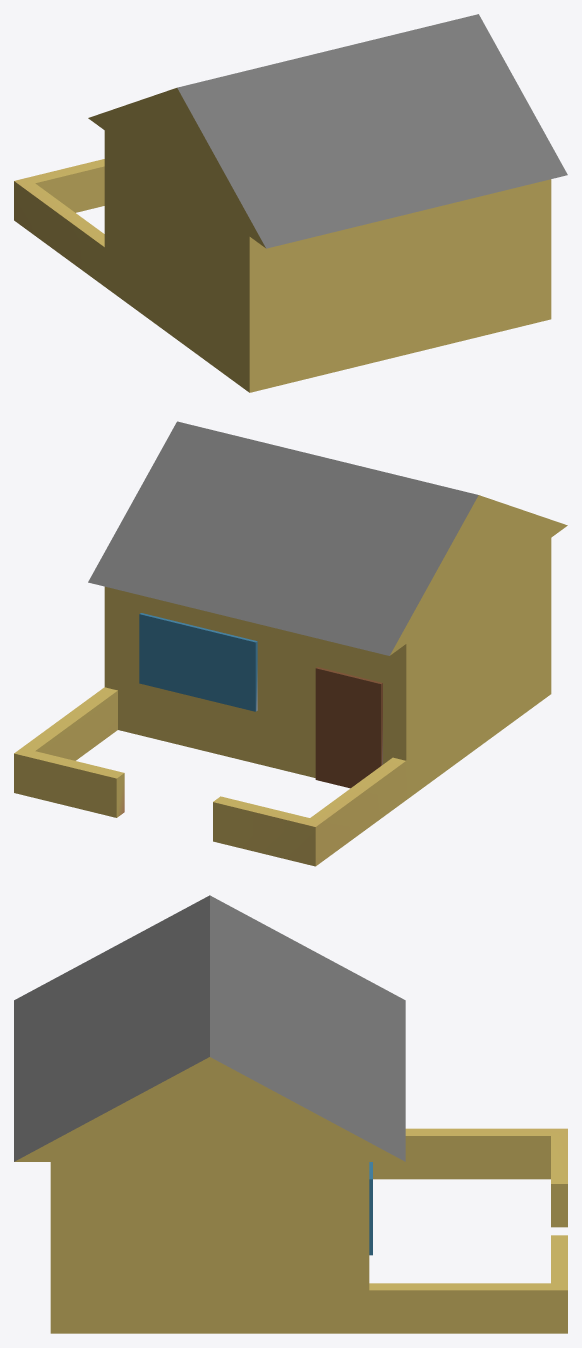
Rendered from House-2.FBX.
3 views of the same model, one above another, from view 1: azimuth 30°, elevation 25°; view 2: azimuth 150°, elevation 25°; view 3: azimuth 270°, elevation 25° (orthographic). The views are drawn at different scales.
Visible parts, largest first — view 1: Casa; view 2: Casa; view 3: Casa.
Boxes of the visible parts, x1=… form: Casa: x1=14, y1=14, x2=567, y2=392; Casa: x1=14, y1=421, x2=567, y2=866; Casa: x1=14, y1=895, x2=567, y2=1333.
Size of the model in its own units: 600 by 869 by 479.
